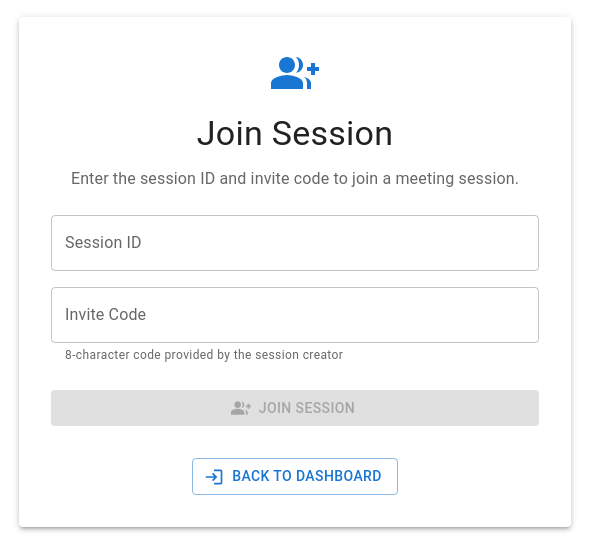
Test: JoinSessionPage › should require both session ID and invite code to join
Button should be disabled when only sessionId is filled
Step 1. Type "test-session-id" into the field labelled "Session ID" → (295, 243), box [51,215,539,271]
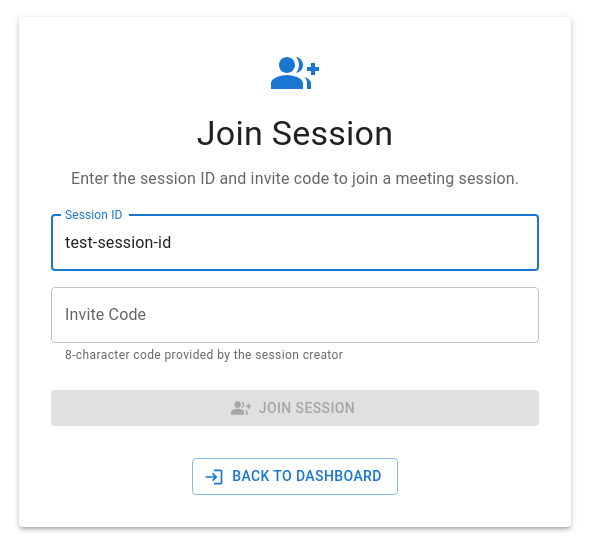
Expected: the button "Join Session" is disabled, [51,390,539,426]
Button should be enabled when both are filled
Step 2. Type "TESTCODE" into the field labelled "Invite Code" → (295, 315), box [51,287,539,343]
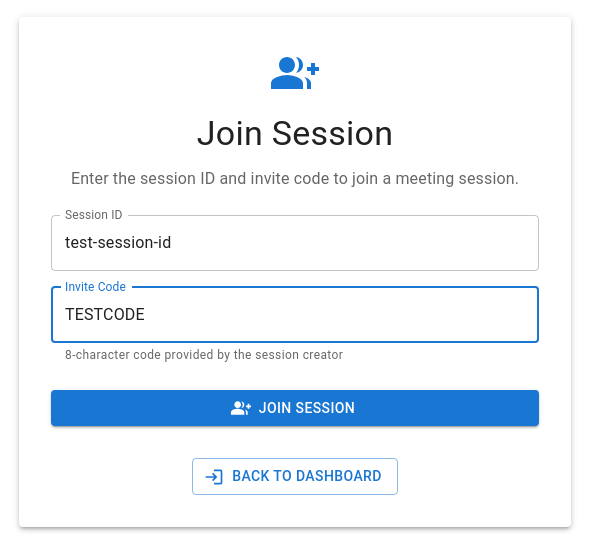
Now the button "Join Session" is enabled, box [51,390,539,426]
